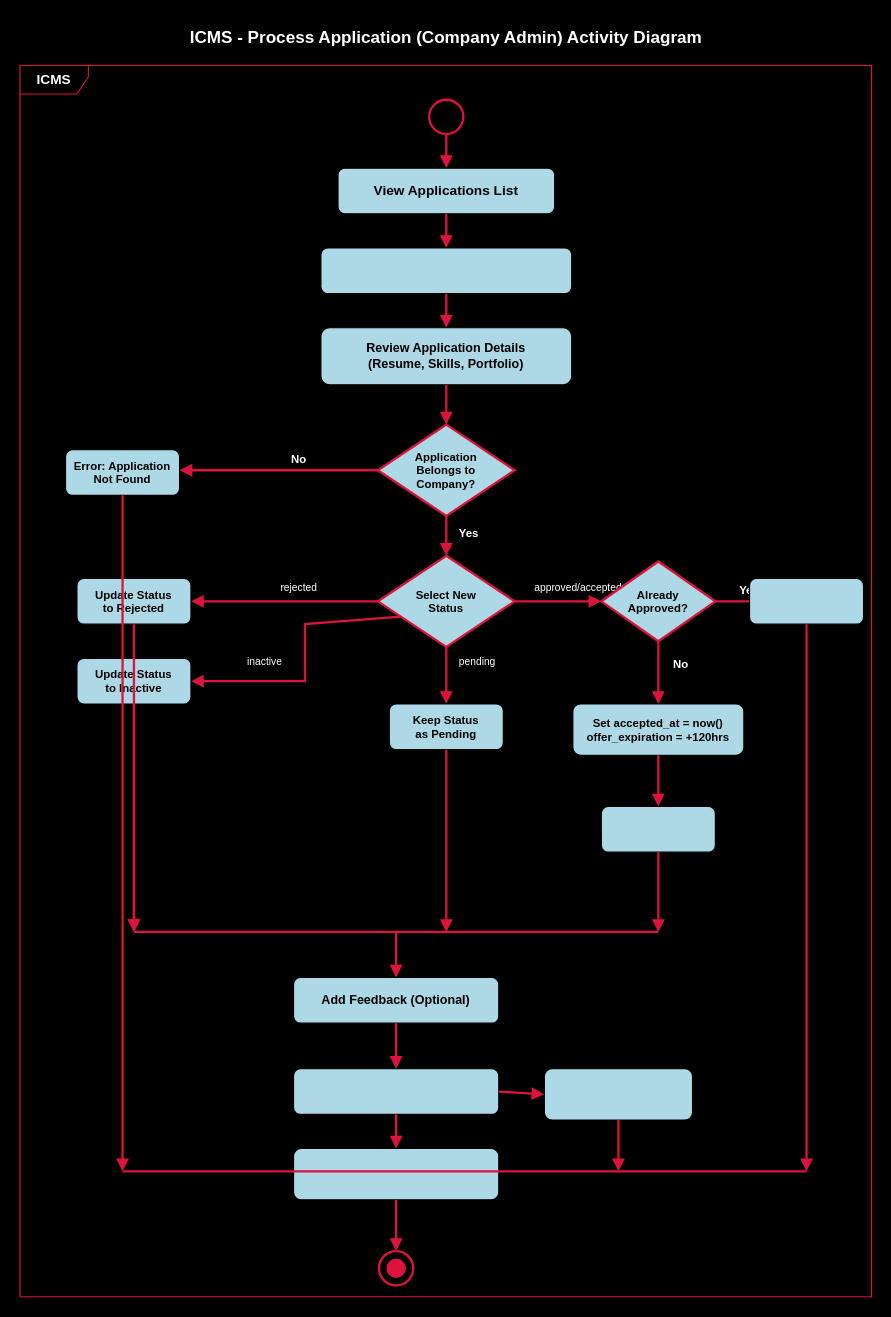
Some shapes in this 891 by 1317 pixel diagram are drawn without their labels. Here are the shapes that lost their labels. From the top down, the centre of each, then its label:
the point at 446,270: Select Application to Process
the point at 806,600: Error: Cannot Change Approved
the point at 657,828: Update Status to Approved
the point at 395,1091: Save Changes to Database
the point at 618,1094: Notify Student of Status Change
the point at 395,1173: Redirect with Success Message
